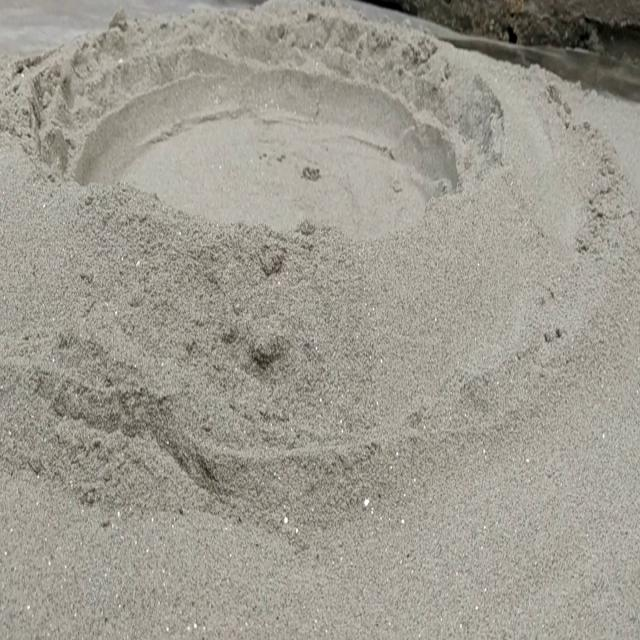C40: (75, 31, 460, 235)
